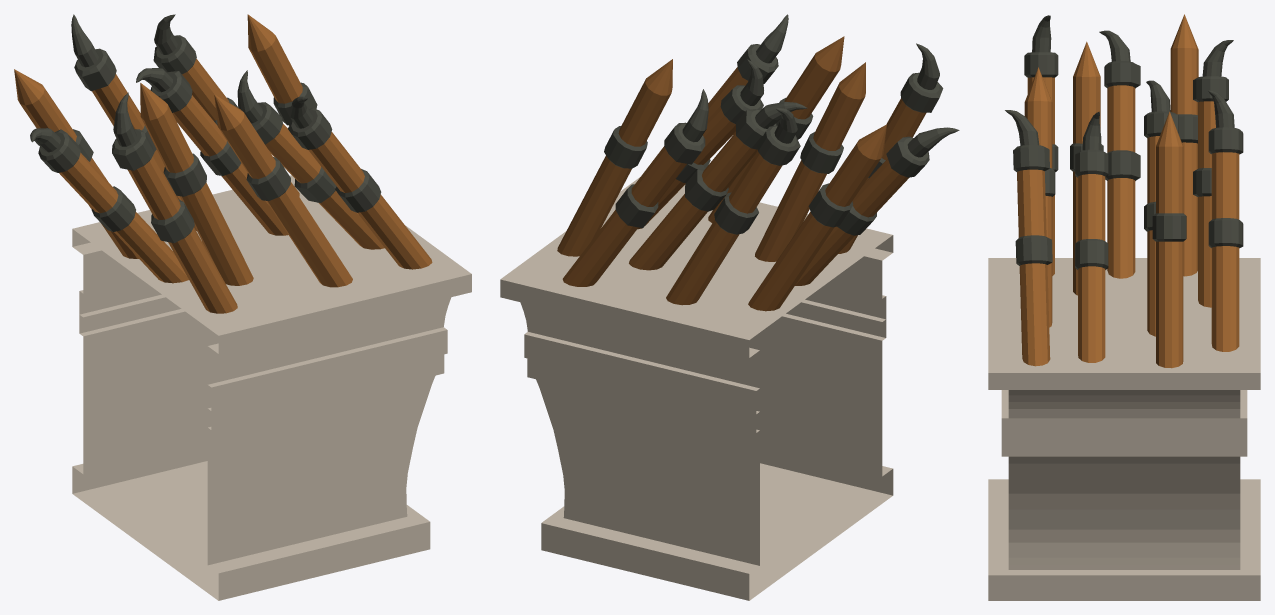
Rendered from plataforma lanças tortas ponta 1.fbx.
The picture shows the model from 3 angles, left to right: view 1: azimuth 30°, elevation 25°; view 2: azimuth 150°, elevation 25°; view 3: azimuth 270°, elevation 25°; orthographic projection. The views are drawn at different scales.
Visible parts, largest first — view 1: Cube.026, Cube.029; view 2: Cube.026, Cube.029; view 3: Cube.026, Cube.029.
Part boxes in pixels (box(x1,y1,x2,y2)): Cube.026: box(72, 175, 471, 600); Cube.029: box(14, 14, 432, 313); Cube.026: box(500, 177, 893, 600); Cube.029: box(557, 14, 959, 311); Cube.026: box(988, 258, 1260, 600); Cube.029: box(1005, 14, 1243, 368).
Bounding box in the file's own units: 75.07 × 93.95 × 50.
